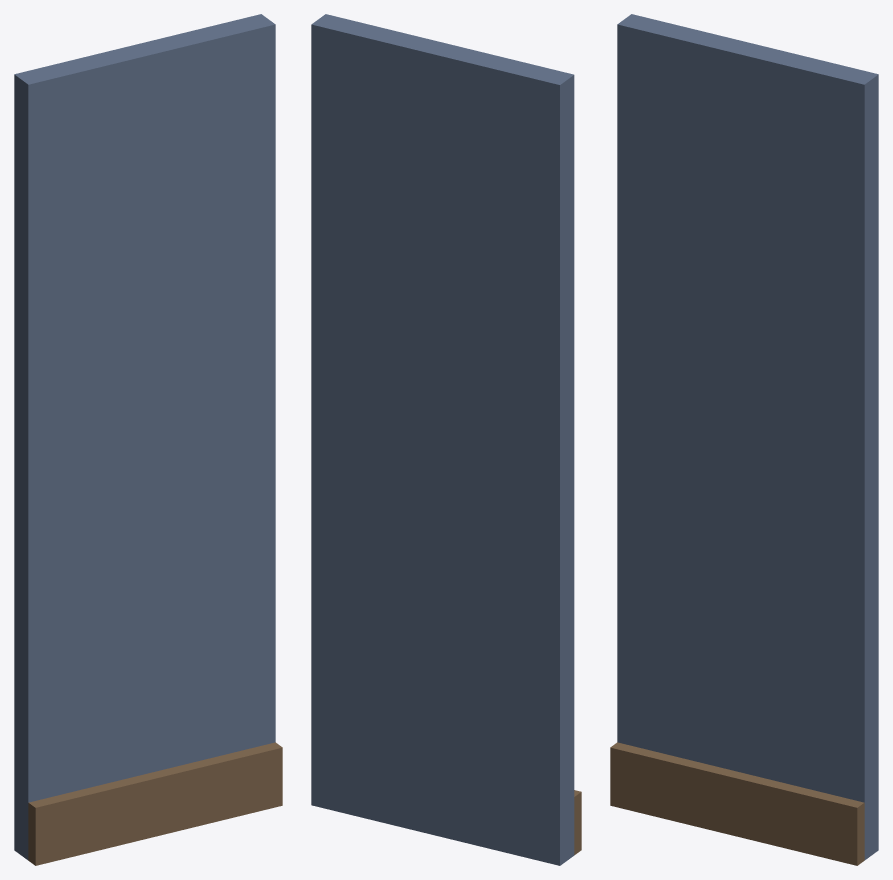
The model's file is Mesh_WallBaseboard_E1.fbx.
3 views of the same model, side by side, from view 1: azimuth 30°, elevation 25°; view 2: azimuth 150°, elevation 25°; view 3: azimuth 330°, elevation 25° (orthographic).
Parts seen in each view (by area): view 1: Mesh_WallBaseboard_E1; view 2: Mesh_WallBaseboard_E1; view 3: Mesh_WallBaseboard_E1.
Part boxes in pixels (box(x1,y1,x2,y2)): Mesh_WallBaseboard_E1: box(14, 14, 282, 865); Mesh_WallBaseboard_E1: box(311, 14, 581, 865); Mesh_WallBaseboard_E1: box(610, 14, 878, 865).
Bounding box in the file's own units: 1 × 3 × 0.15.
